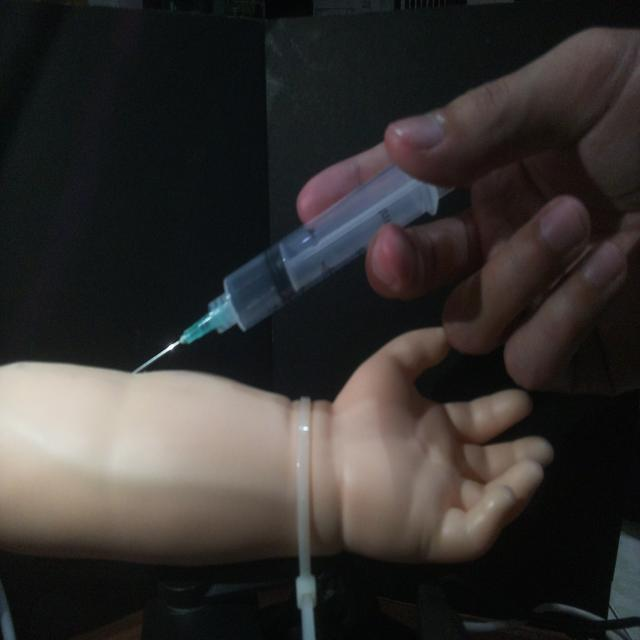22deg: (128, 156, 458, 377)
